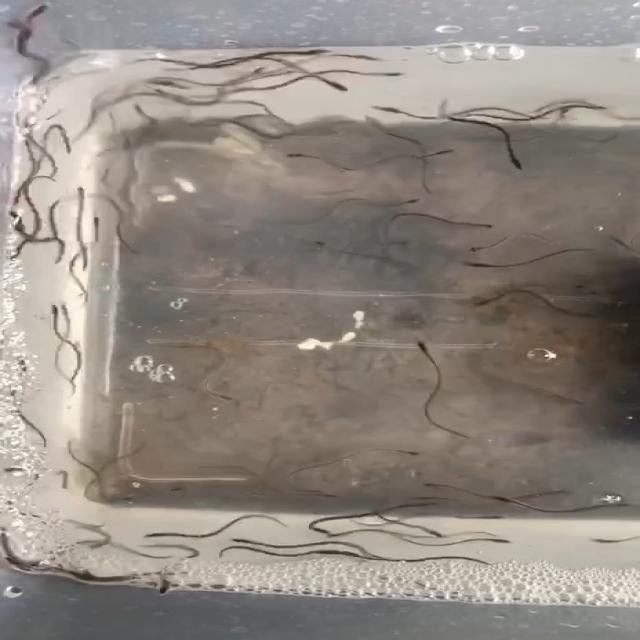inactive_glass_eel: (53, 298, 132, 338), (116, 522, 198, 553), (193, 382, 275, 408), (456, 285, 508, 318), (321, 77, 372, 109), (15, 0, 66, 32), (422, 471, 475, 501), (297, 232, 349, 257), (390, 330, 438, 357), (279, 46, 341, 66), (490, 146, 534, 174), (383, 441, 427, 469), (454, 252, 500, 277), (581, 530, 625, 556), (366, 97, 413, 121), (414, 518, 463, 541), (230, 533, 276, 557), (358, 64, 411, 84), (264, 145, 323, 162), (153, 476, 202, 496), (303, 516, 341, 540), (150, 572, 188, 595), (0, 208, 43, 228), (452, 215, 495, 235), (466, 512, 509, 532), (390, 188, 429, 210), (456, 241, 495, 262), (84, 205, 104, 245), (475, 536, 513, 556), (427, 142, 458, 164), (340, 48, 382, 64), (39, 301, 73, 320), (69, 187, 97, 206)
